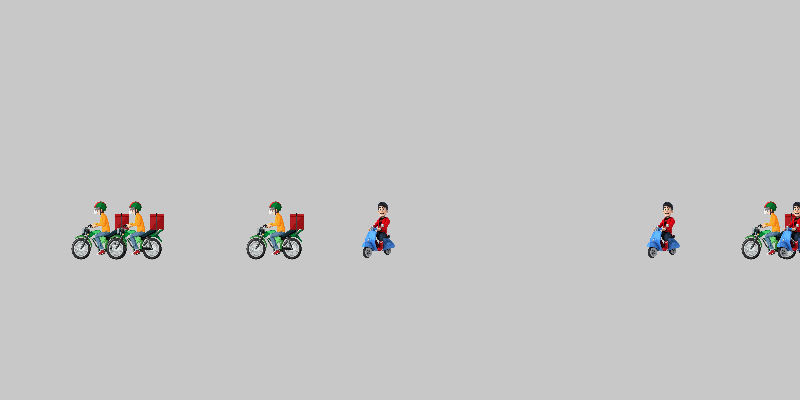helmet: (70, 200, 130, 260), (105, 200, 165, 260), (245, 200, 305, 260), (740, 200, 800, 260)
no_helmet: (350, 200, 410, 260), (635, 200, 695, 260), (765, 200, 800, 260)
